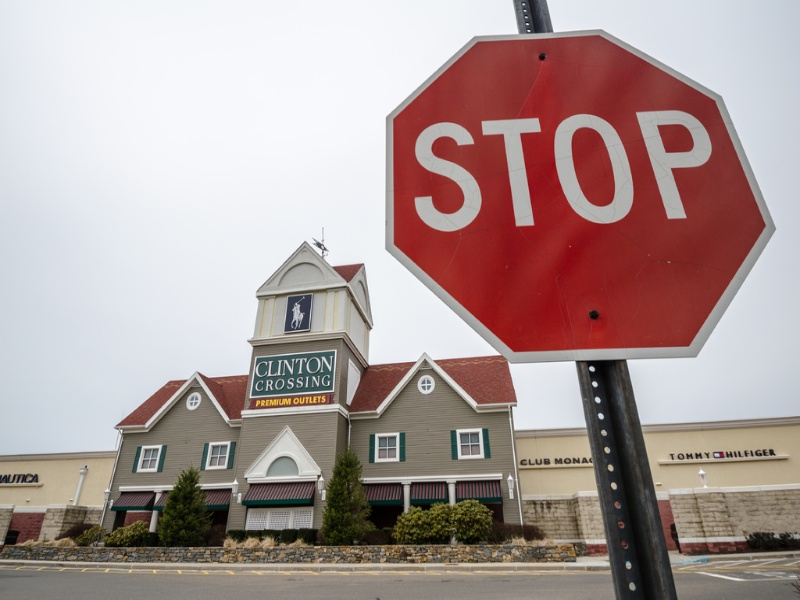stop: (396, 37, 750, 349)
